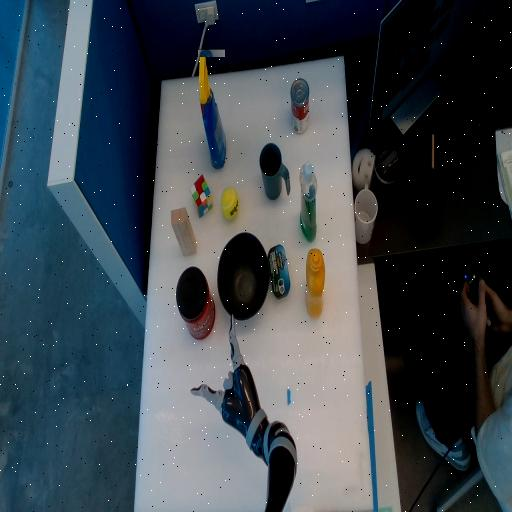bowl: (218, 232, 268, 318)
cleanser: (300, 162, 316, 241)
coffee_can: (175, 283, 214, 322)
jaco: (191, 315, 259, 436)
meat_can: (267, 261, 289, 282)
mug: (260, 143, 288, 199)
mustard_bottle: (306, 248, 324, 317)
rubik: (190, 185, 212, 207)
soup_can: (291, 78, 308, 133)
tennis_ball: (221, 194, 238, 211)
windex: (198, 50, 225, 168)
wooden_block: (171, 208, 196, 254)
workspace: (135, 57, 372, 511)
